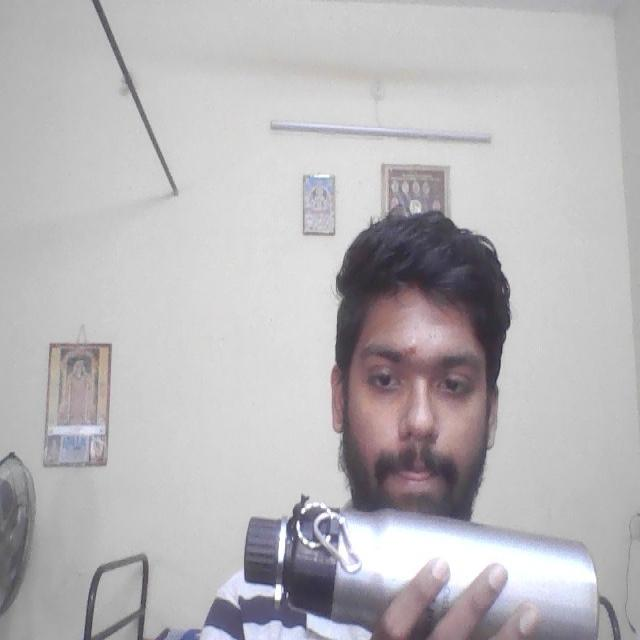Drinking: (235, 482, 605, 640)
